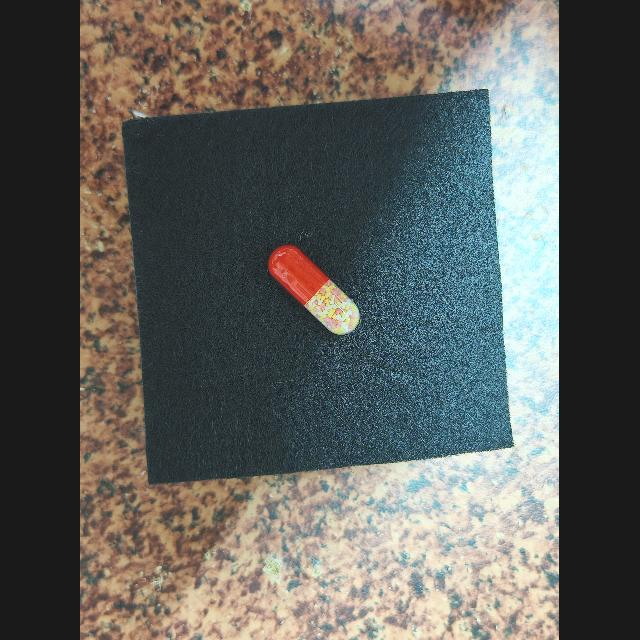Intact Capsule: (268, 245, 360, 335)
